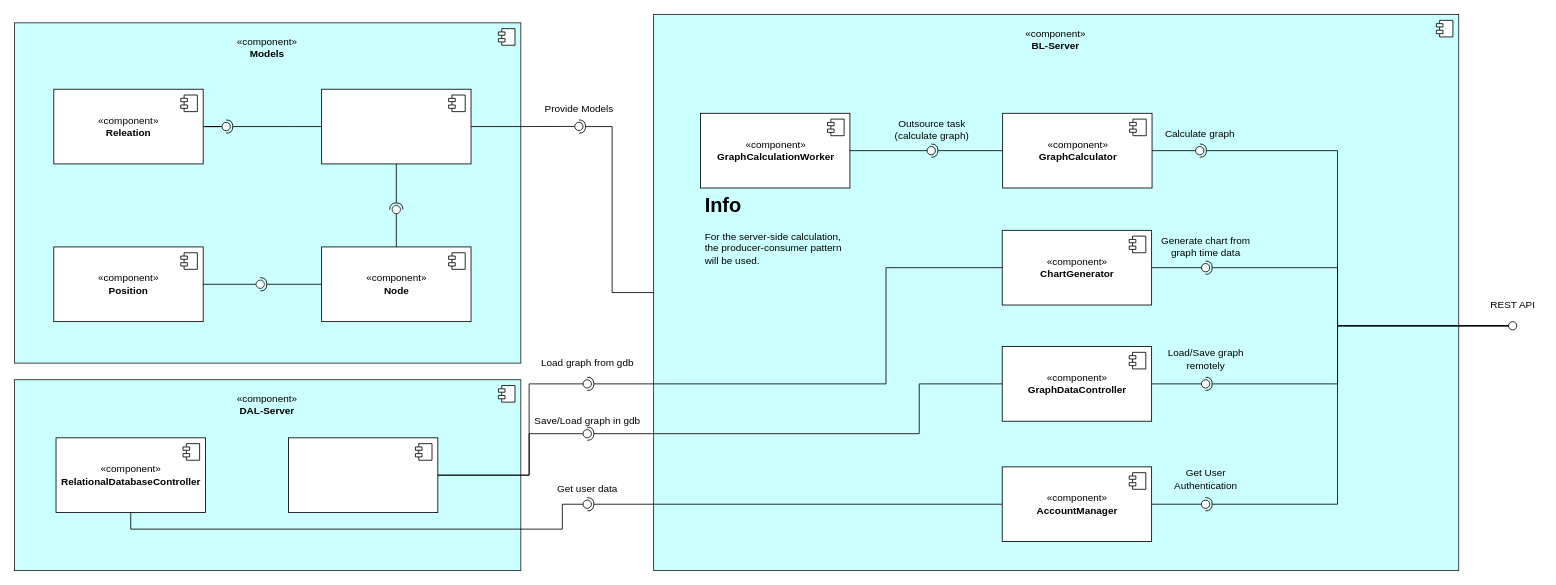
Some shapes in this 1556 by 585 pixel diagram are drawn without their labels. The centre of each missing label's shape, as x and y in pixels:
«component» Graph: [396,126]
«component» GraphDatabaseController: [363,475]
